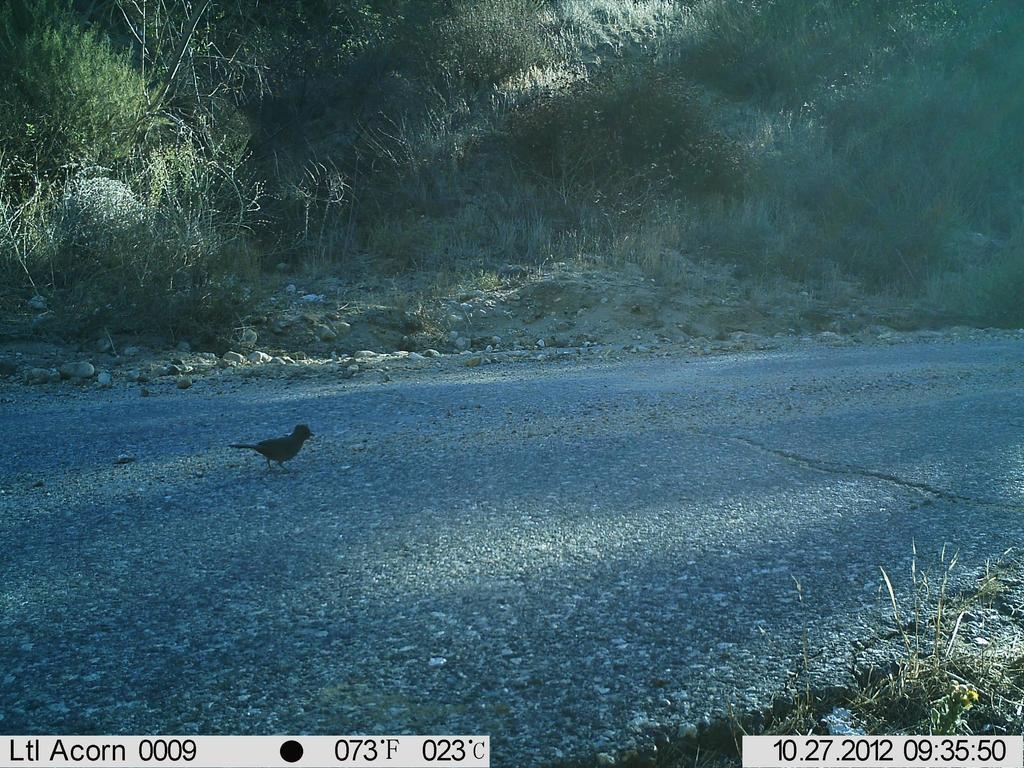bird: (226, 424, 323, 475)
